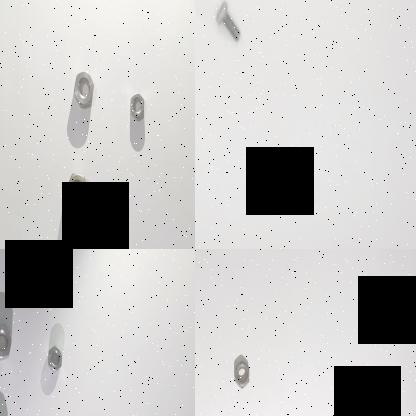Bolts: (214, 0, 244, 45)
NUTS: (63, 172, 92, 214), (72, 68, 96, 110), (127, 92, 148, 126), (232, 358, 252, 392), (46, 344, 66, 374), (0, 321, 14, 361)
